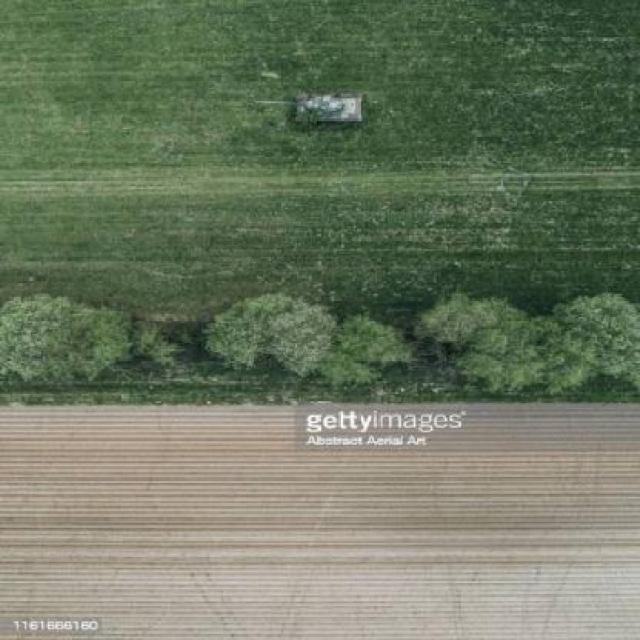Tanks: (248, 89, 370, 129)
